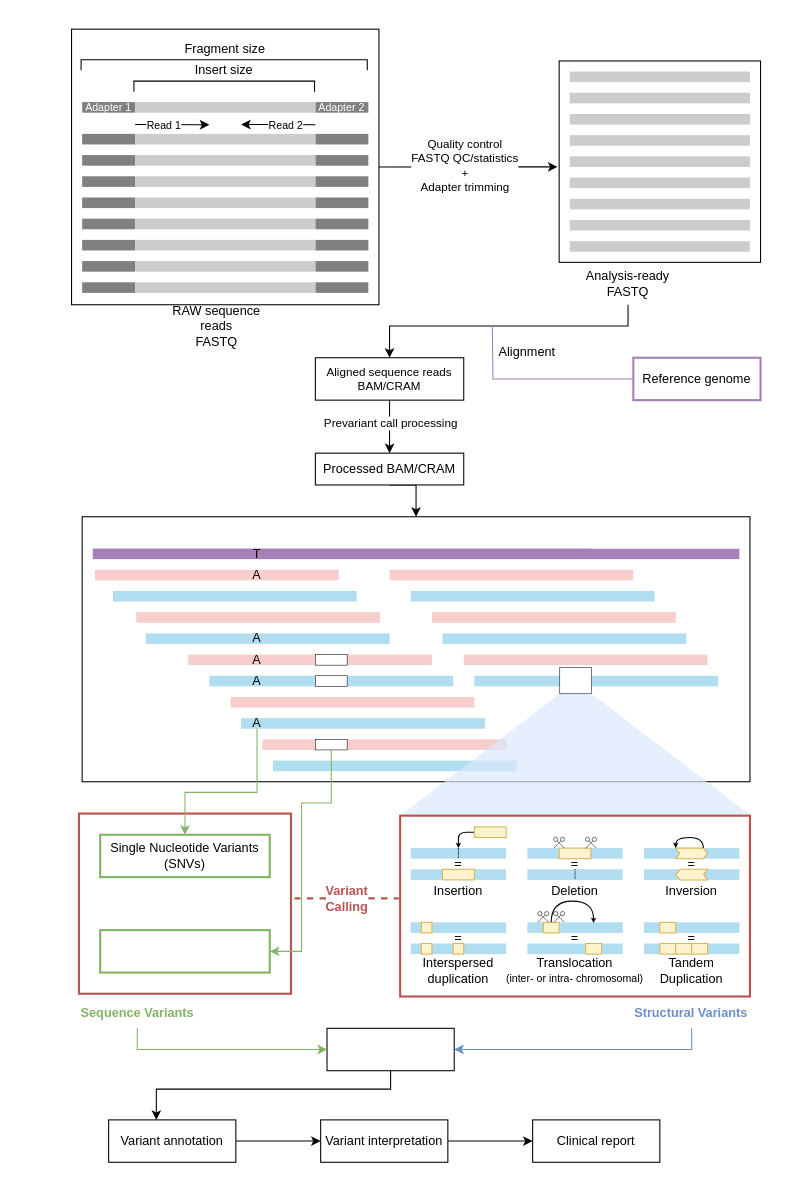
The diagram is 789 pixels wide and 1181 high, and some of its shapes have lost their labels. Here are the shapes that lost their labels. From the top down, the box of each, then its label:
(590, 527, 739, 548): Human Reference Genome
(99, 929, 270, 973): Insertions/ Deletions (Indels)
(326, 1027, 454, 1071): Variant Call Format (VCF)
